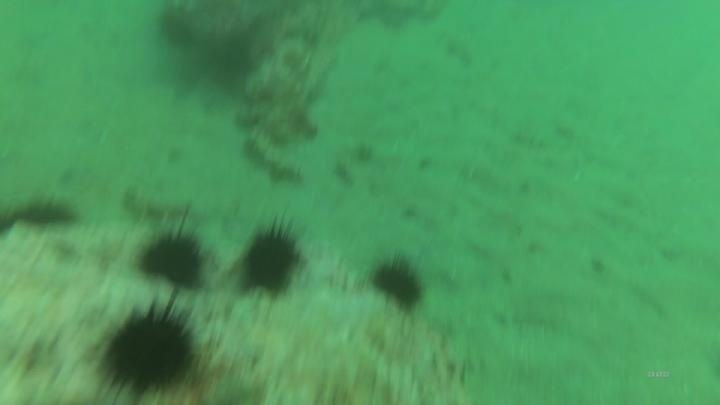echinus: (95, 299, 201, 401), (235, 218, 307, 303), (135, 223, 210, 293), (369, 254, 428, 313), (1, 191, 80, 235)
holothurian: (242, 127, 304, 185), (120, 183, 192, 227)
